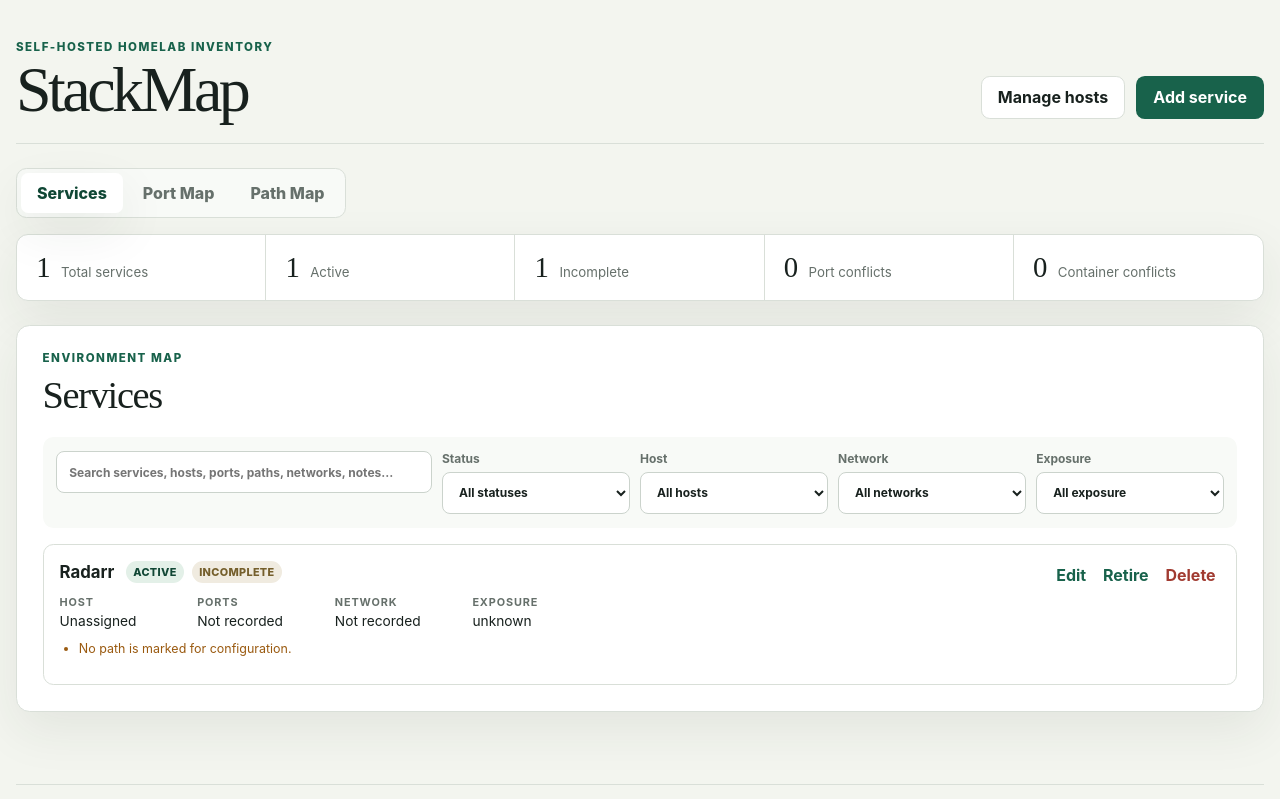
Test case: StackMap service workflows › permanently deletes a service only after confirmation
What coordinates should you click on to do the following:
click the button with aria-label "Delete Radarr"
I would click on:
 (1190, 575)
Its box is [1161,560,1220,590].
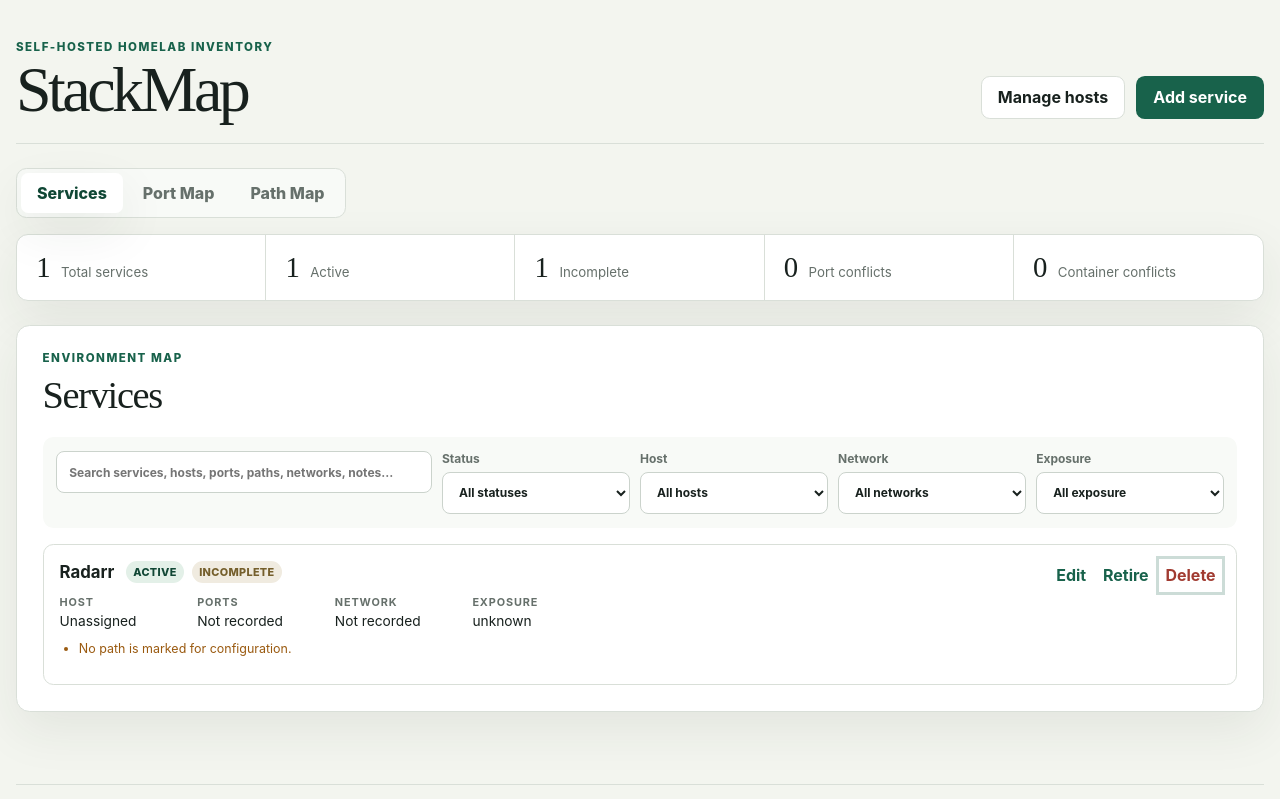
What coordinates should you click on to do the following:
click the button with aria-label "Delete Radarr"
I would click on:
 (1190, 575)
Its box is [1161,560,1220,590].
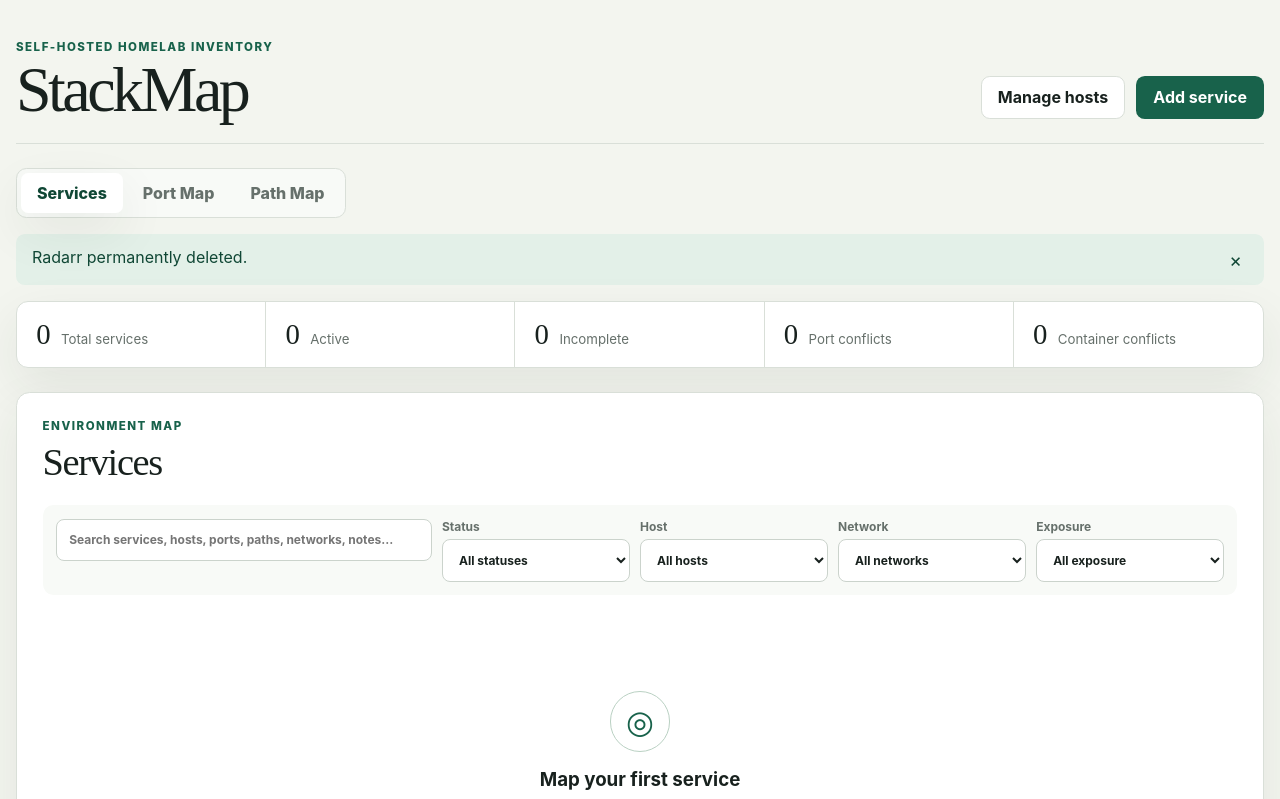
expect the heading "Map your first service" is shown: met, box [540,768,740,791]
